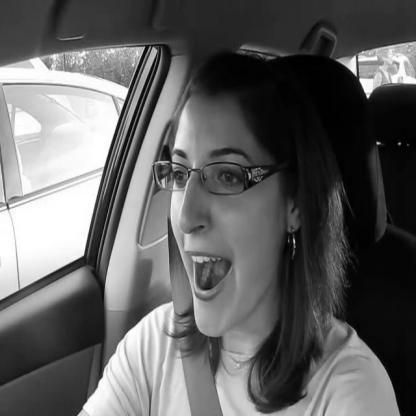seatbelt: (142, 34, 349, 416)
